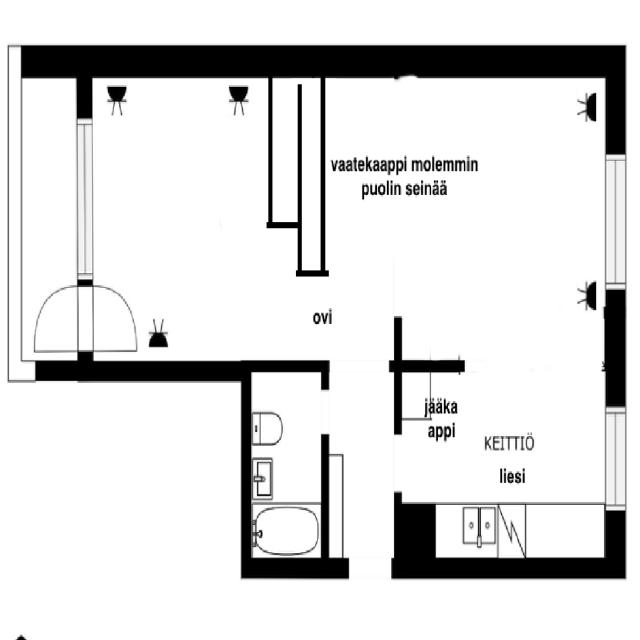door: (23, 280, 86, 359), (80, 279, 144, 352)
window: (67, 104, 101, 290), (594, 146, 632, 307), (599, 397, 632, 529), (386, 426, 411, 503), (318, 381, 332, 443)
zone: (86, 72, 274, 360), (393, 351, 615, 538), (248, 371, 324, 516), (24, 277, 85, 359), (248, 504, 324, 564)
